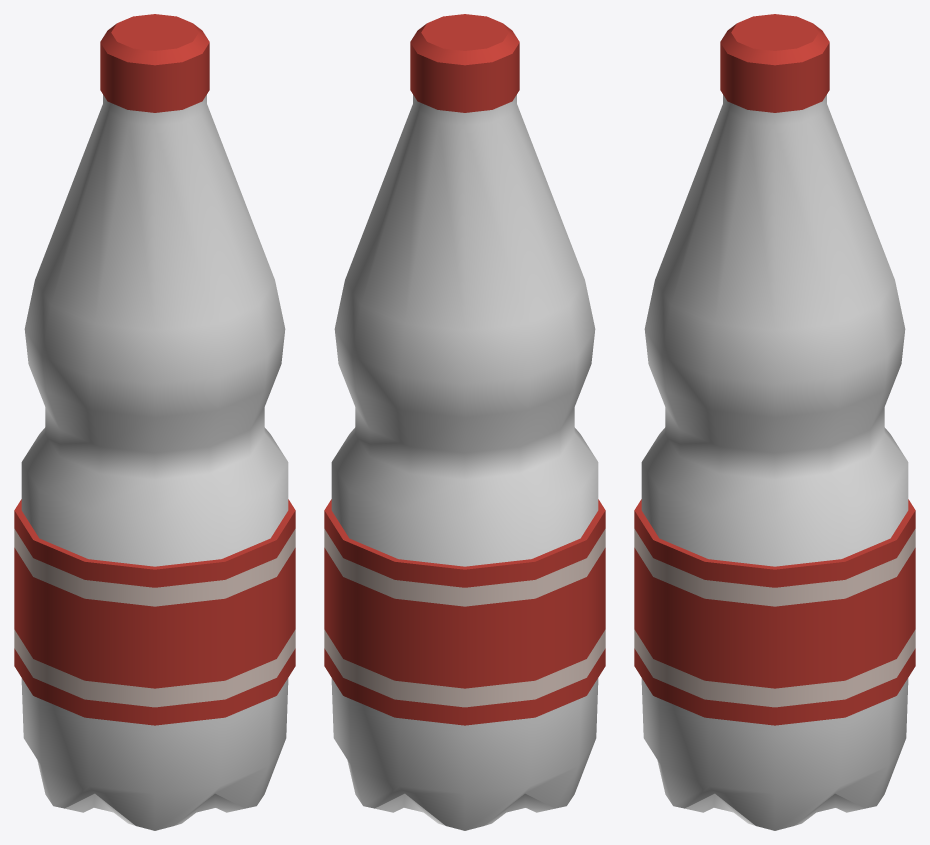
Rendered from SodaBottle_02.fbx.
3 renders of one model, left to right at view 1: azimuth 30°, elevation 25°; view 2: azimuth 150°, elevation 25°; view 3: azimuth 270°, elevation 25°, orthographic.
Visible parts, largest first — view 1: SodaBottle_02; view 2: SodaBottle_02; view 3: SodaBottle_02.
Boxes of the visible parts, left/top/right/bottom form: SodaBottle_02: left=14, top=14, right=295, bottom=830; SodaBottle_02: left=324, top=14, right=605, bottom=830; SodaBottle_02: left=634, top=14, right=915, bottom=830.
Size of the model in its own units: 0.1201 by 0.3559 by 0.1201.
